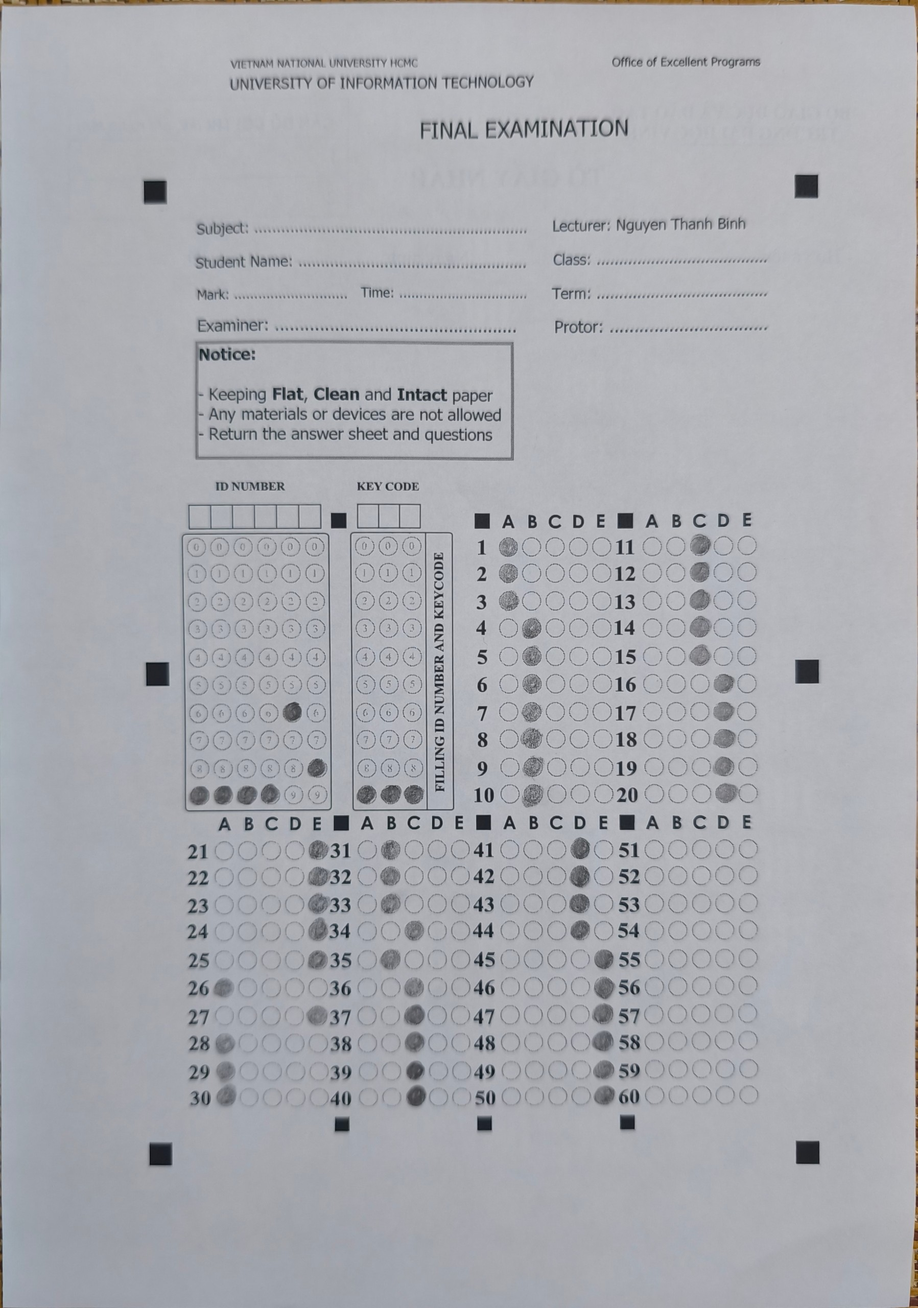info_region: (183, 533, 428, 809)
paper_region: (150, 190, 810, 1154)
q_1_20: (481, 518, 763, 821)
q_21_60: (183, 821, 763, 1127)
